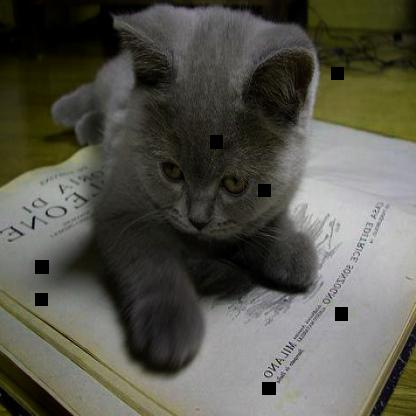cat: (52, 0, 320, 372)
